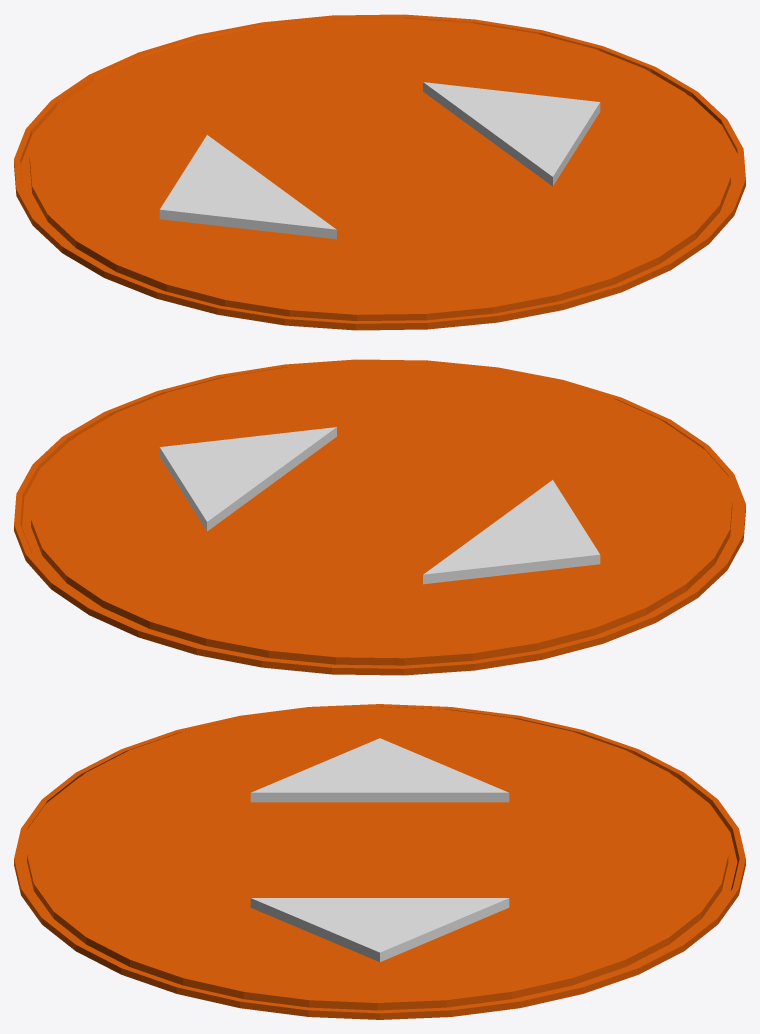
Rendered from Split.fbx.
3 renders of one model, top to bottom at view 1: azimuth 30°, elevation 25°; view 2: azimuth 150°, elevation 25°; view 3: azimuth 270°, elevation 25°, orthographic.
Visible parts, largest first — view 1: Cylinder, Plane, Plane.001; view 2: Cylinder, Plane, Plane.001; view 3: Cylinder, Plane, Plane.001.
Part boxes in pixels (x1,y1,x2,y2): Cylinder: (14,14,745,330); Plane: (159,135,336,239); Plane.001: (423,82,600,186); Cylinder: (14,359,745,675); Plane: (423,480,600,584); Plane.001: (159,427,336,531); Cylinder: (14,704,745,1019); Plane: (250,738,509,802); Plane.001: (250,898,509,961).
Size of the model in its own units: 200 by 6 by 200.
